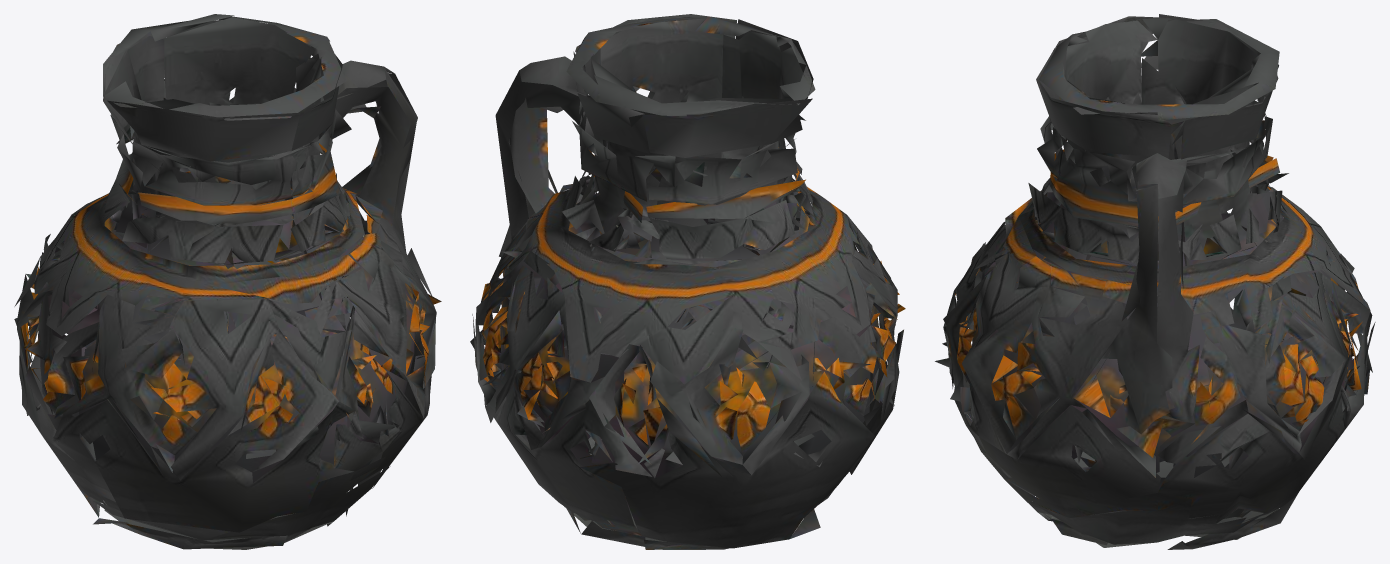
Rendered from clay_pot_black.glb.
3 renders of one model, left to right at view 1: azimuth 30°, elevation 25°; view 2: azimuth 150°, elevation 25°; view 3: azimuth 270°, elevation 25°, orthographic.
Parts seen in each view (by area): view 1: clay_pot_black; view 2: clay_pot_black; view 3: clay_pot_black.
Boxes of the visible parts, bbox=[...] form: clay_pot_black: bbox=[14, 14, 441, 549]; clay_pot_black: bbox=[470, 14, 905, 549]; clay_pot_black: bbox=[935, 14, 1375, 549].
Bounding box in the file's own units: 0.4118 × 0.4528 × 0.412.
Materials: 1 (1 with a texture image).
